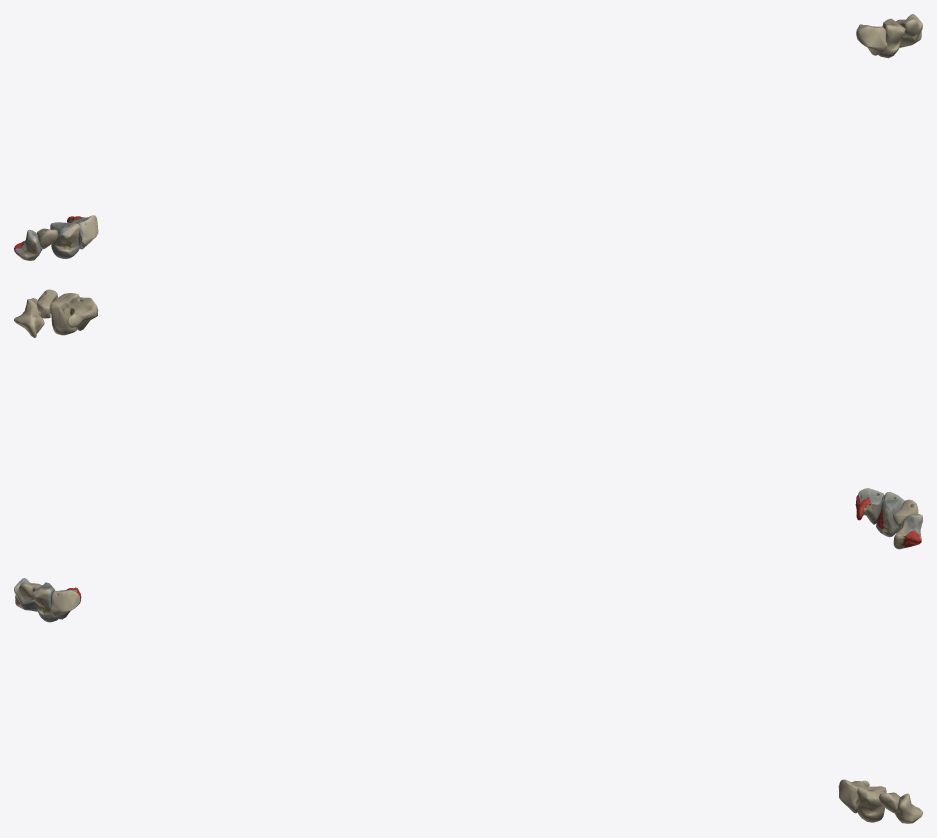
File: ossa-carpi-distalia.glb
The picture shows the model from 3 angles, top to bottom: view 1: azimuth 30°, elevation 25°; view 2: azimuth 150°, elevation 25°; view 3: azimuth 330°, elevation 25°; orthographic projection.
Parts seen in each view (by area): view 1: FJ3361, FJ3261, FJ3257, FJ3367; view 2: FJ3257, FJ3261, FJ3361, FJ3283, FJ3367, FJ3388; view 3: FJ3257, FJ3367, FJ3361, FJ3261, FJ3283.
Part boxes in pixels (bbox=[...]): FJ3361: bbox=[50, 222, 79, 258]; FJ3261: bbox=[856, 24, 887, 55]; FJ3257: bbox=[878, 18, 905, 58]; FJ3367: bbox=[68, 215, 98, 249]; FJ3257: bbox=[50, 293, 79, 335]; FJ3261: bbox=[67, 297, 98, 330]; FJ3361: bbox=[876, 492, 904, 537]; FJ3283: bbox=[14, 298, 44, 337]; FJ3367: bbox=[857, 488, 884, 524]; FJ3388: bbox=[893, 514, 922, 549]; FJ3257: bbox=[857, 786, 886, 822]; FJ3367: bbox=[50, 590, 79, 619]; FJ3361: bbox=[32, 582, 58, 622]; FJ3261: bbox=[838, 779, 869, 813]; FJ3283: bbox=[894, 793, 922, 823].
Size of the model in its own units: 564 by 24.54 by 24.04.
